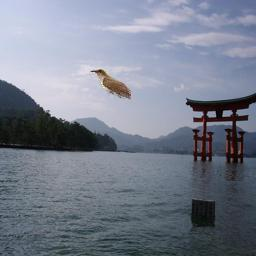Cuckoo: (89, 69, 131, 100)
